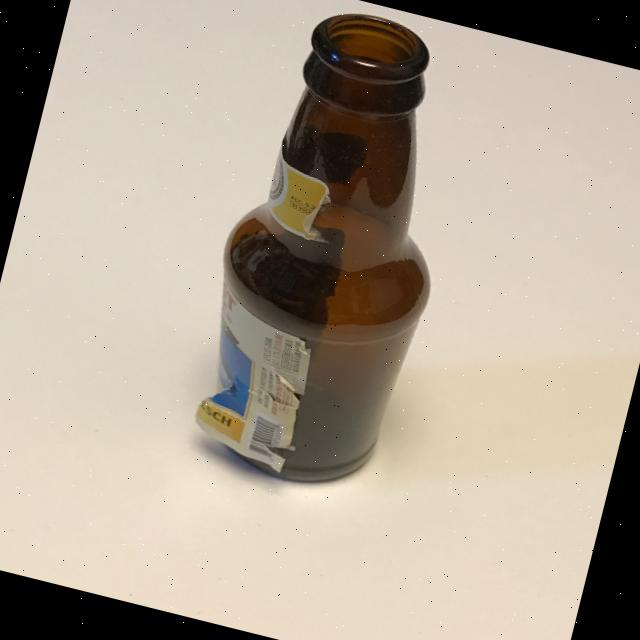glass: (171, 0, 492, 502)
